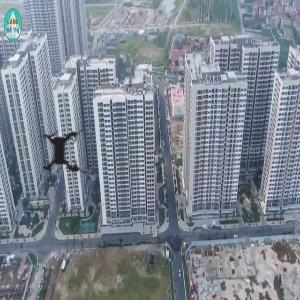drone: (13, 100, 118, 205)
